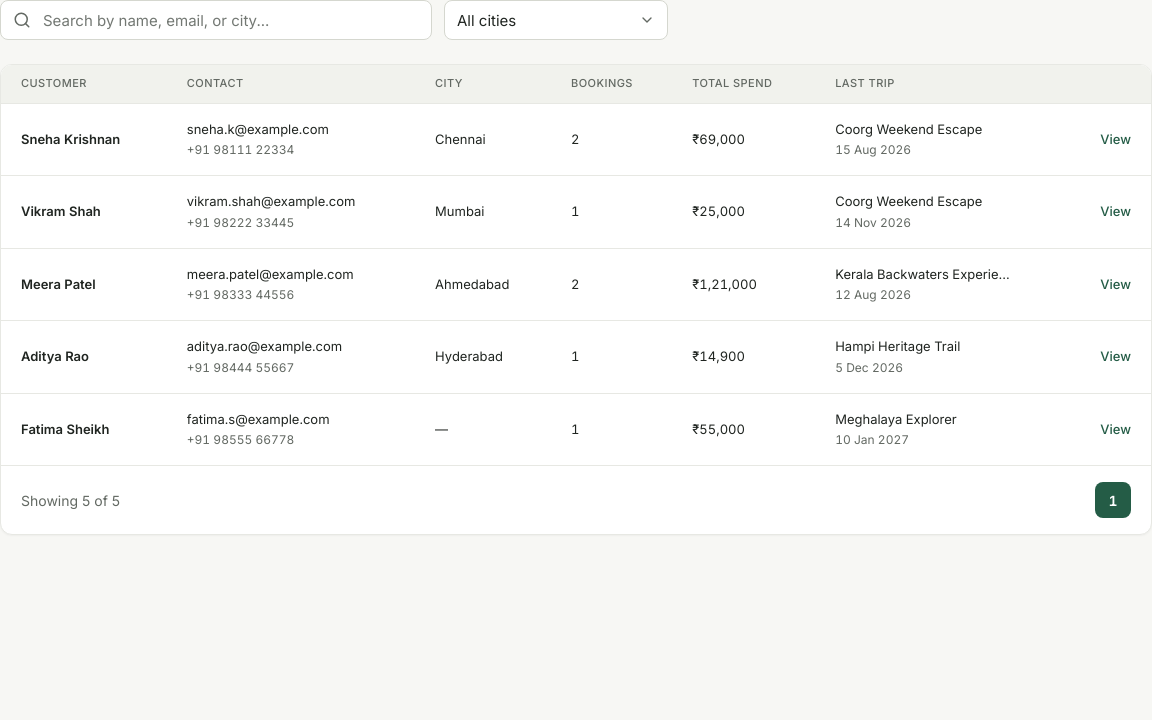
CustomersContent › opens the customer’s details in a drawer from View, and closes it
What coordinates should you click on to do the following:
click the button with aria-label "View Meera Patel"
I would click on:
 (1116, 284)
Its box is [1092,268,1139,300].
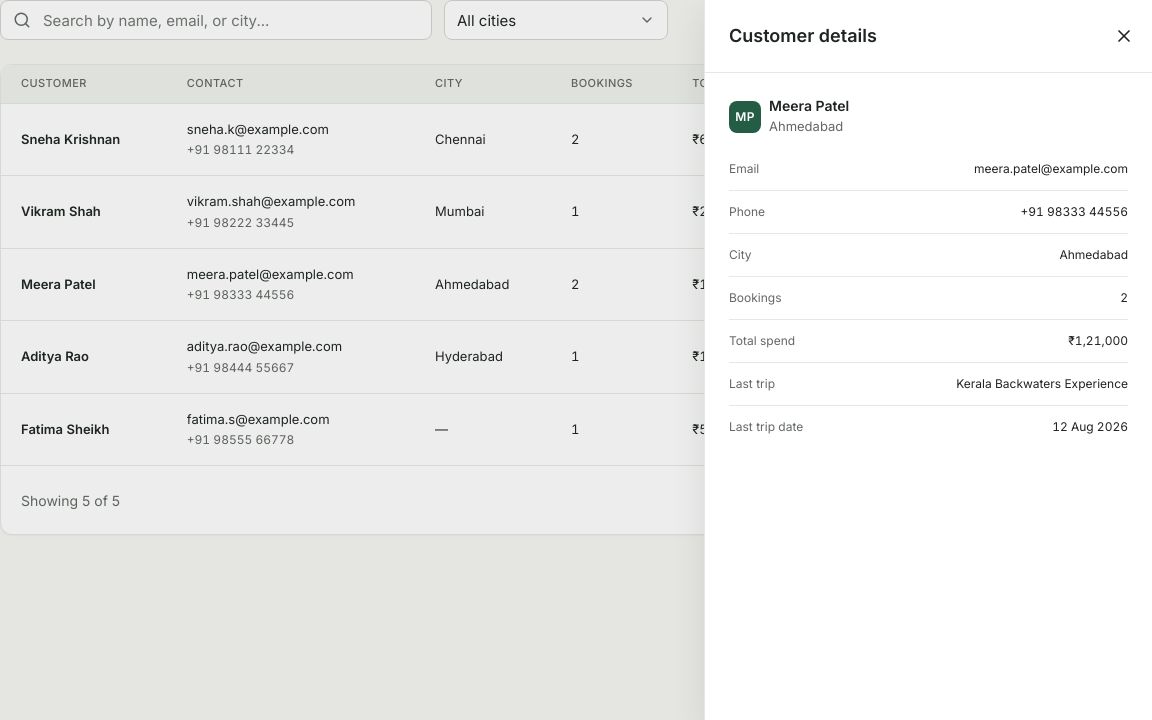
Expected: the text "MP" is shown, [729,100,761,132]
Expected: the heading "Meera Patel" is shown, [769,97,849,114]
Expected: the text "meera.patel@example.com" is shown, [974,160,1128,178]
What coordinates should you click on to do the following:
click the button named "Close"
I would click on:
 (1124, 36)
Its box is [1104,16,1144,56].
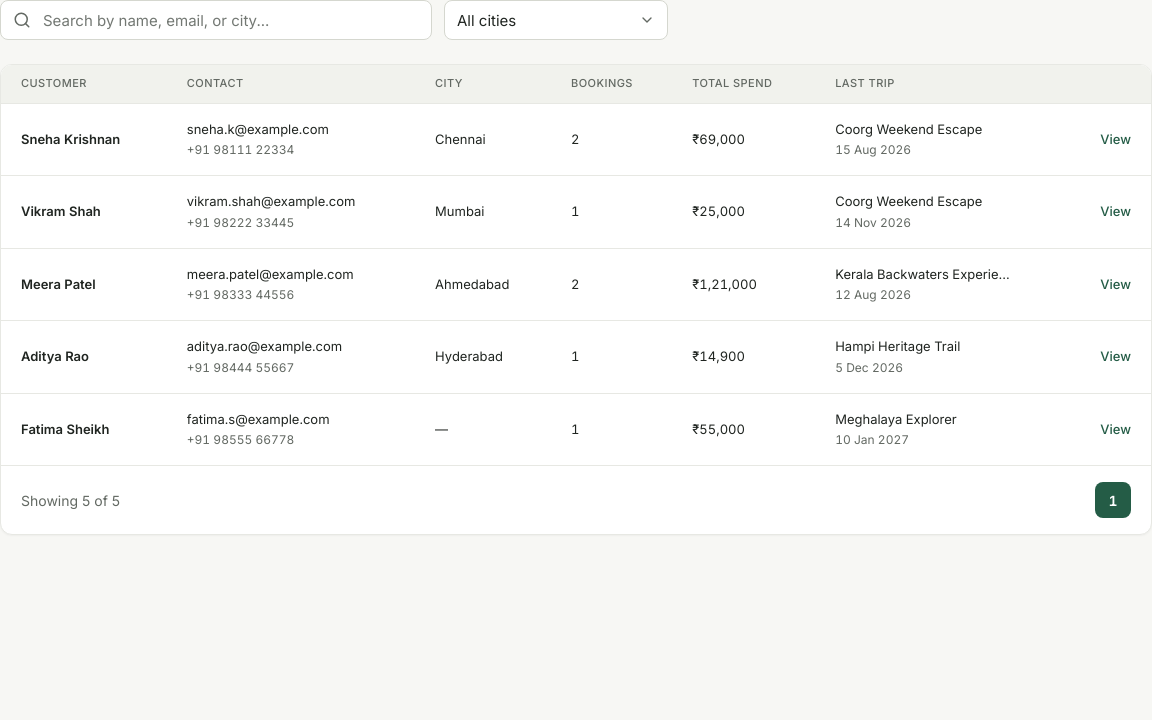
Expected: the element with test id "CustomerDetailsTest" is gone
